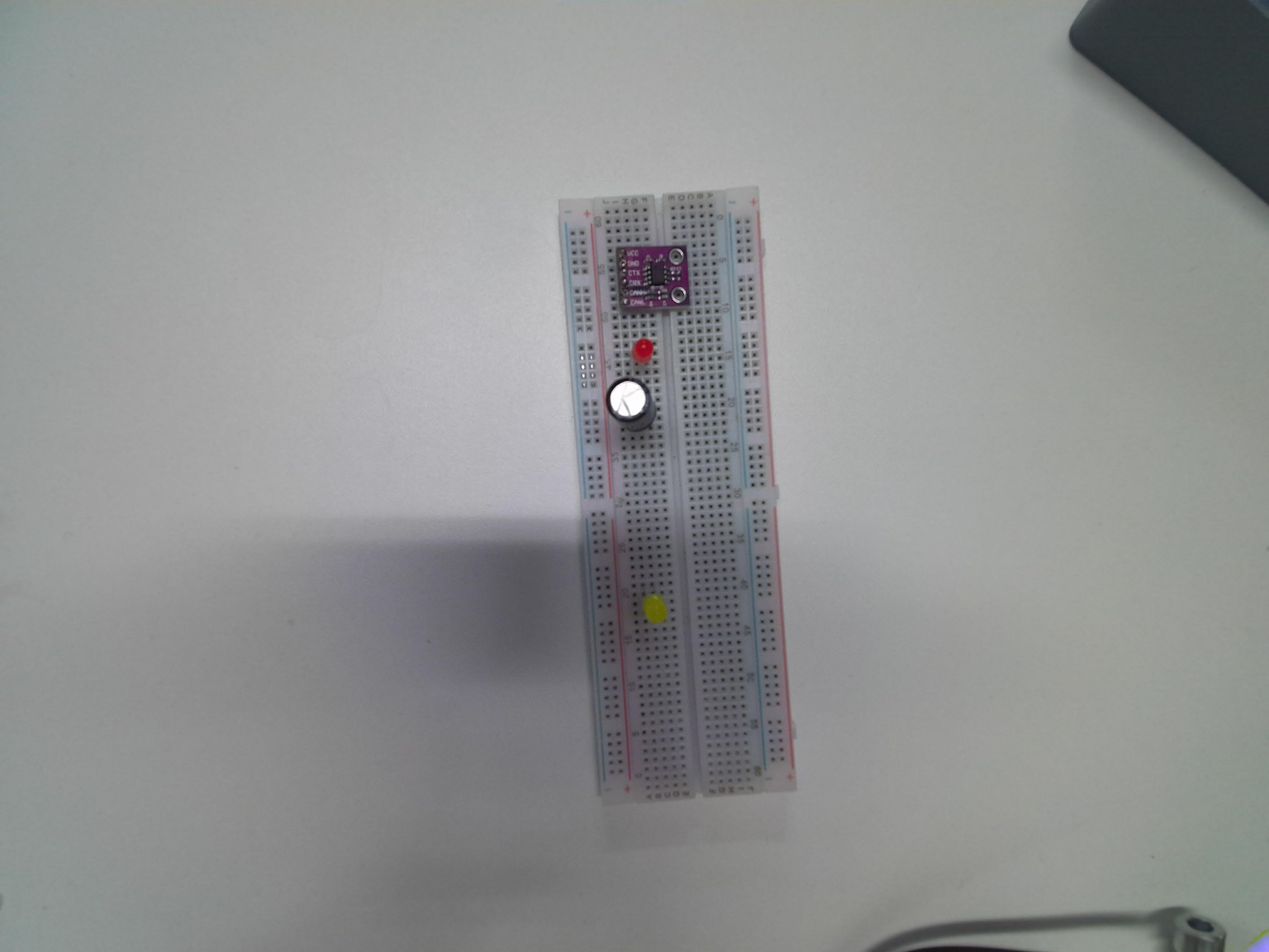base: (556, 181, 799, 811)
capacitor: (604, 380, 652, 429)
purple-board: (613, 239, 691, 315)
red-led: (629, 337, 654, 369)
yellow-led: (638, 591, 676, 637)
